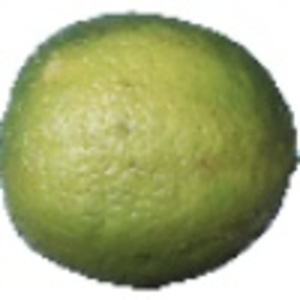limão: (1, 12, 300, 290)
